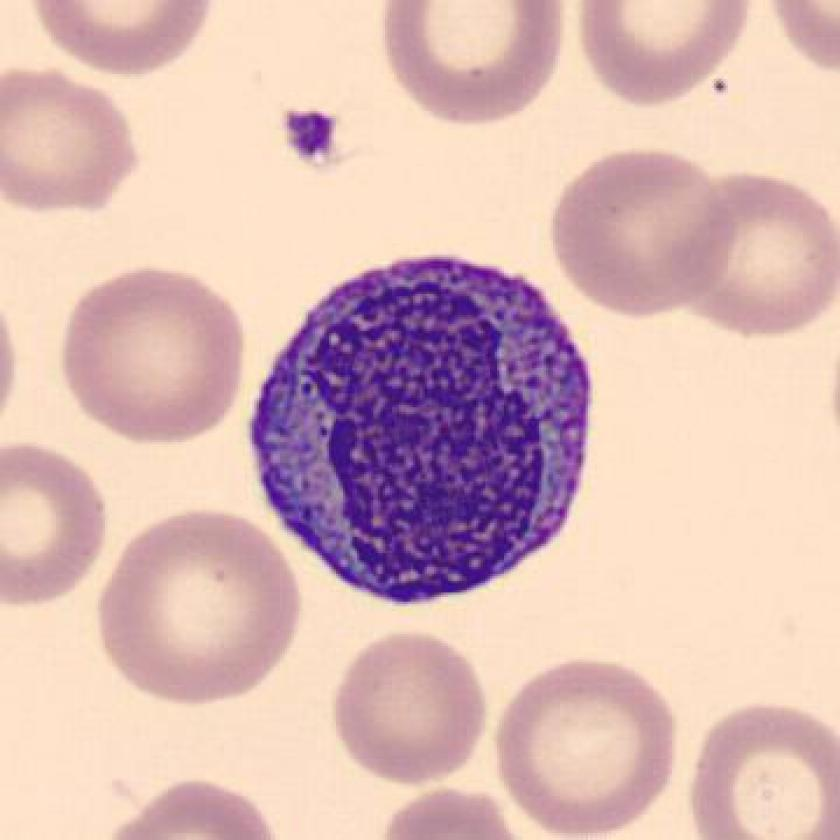monocyte: (225, 246, 622, 621)
